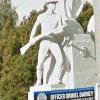Statue: (15, 0, 75, 88)
